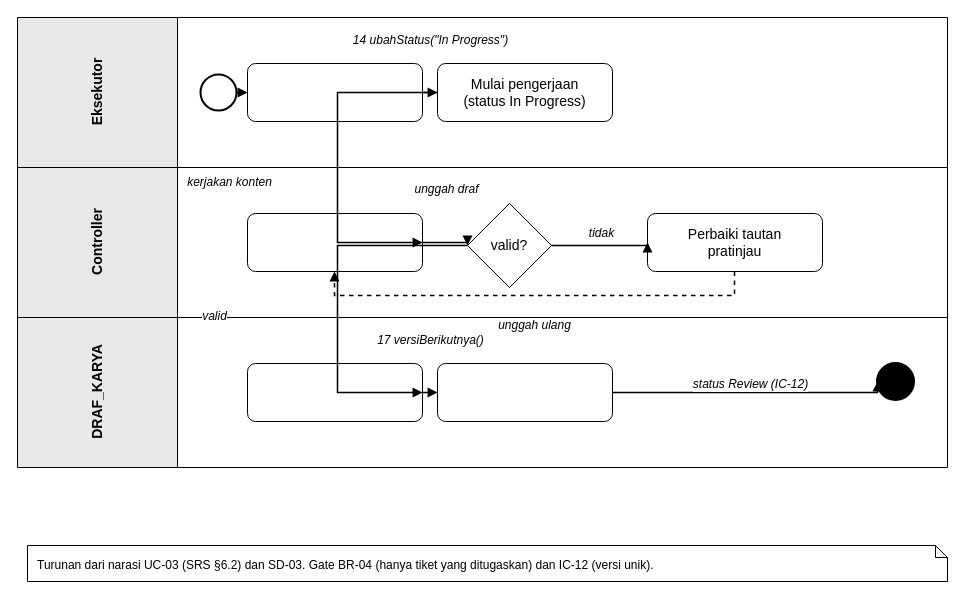
Some shapes in this 965 by 599 pixel diagram are drawn without their labels. The centre of each missing label's shape, as x and y in pixels:
Buka "Tugas Saya", unduh aset: point (334, 92)
Tentukan versi draf (v1 / v2): point (334, 392)
Ubah status tiket: point (524, 392)
Unggah draf (gambar / tautan): point (334, 242)
